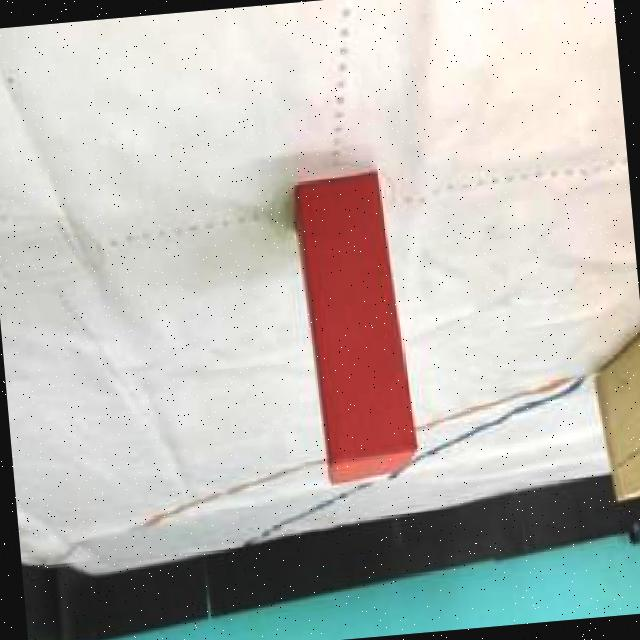redbox: (291, 170, 420, 488)
